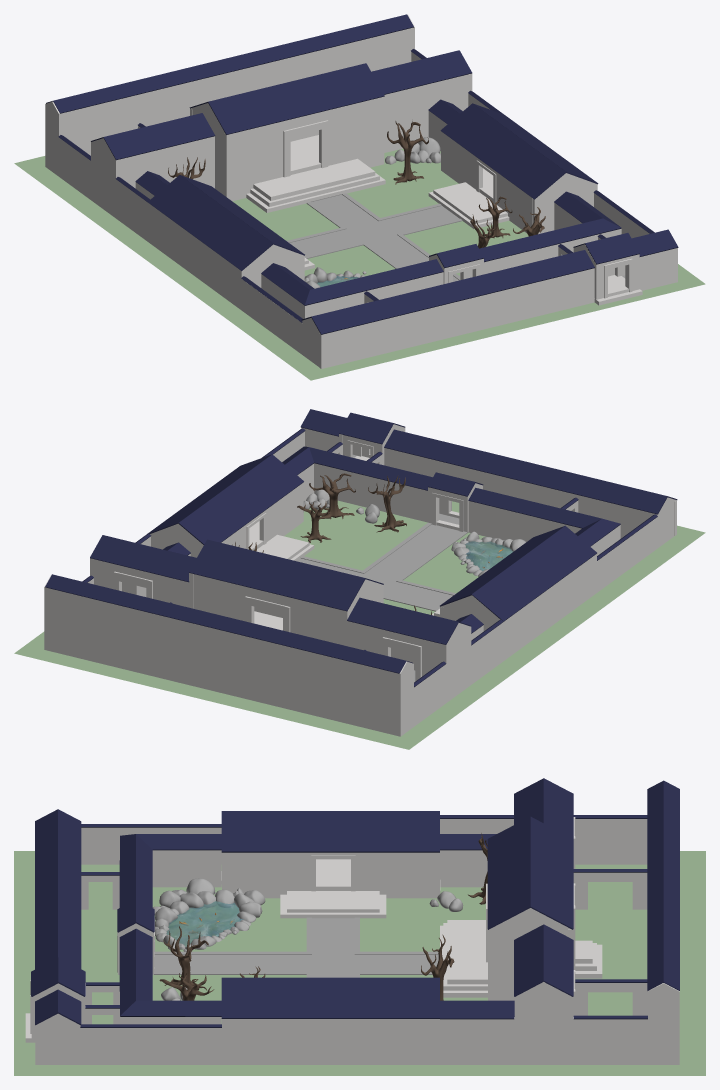
The model's file is environment_whole2.fbx.
3 renders of one model, top to bottom at view 1: azimuth 30°, elevation 25°; view 2: azimuth 150°, elevation 25°; view 3: azimuth 270°, elevation 25°, orthographic. The views are drawn at different scales.
Visible parts, largest first — view 1: walls_stairs, roof, ground, gardenwalkway, rockpile1, tree:tree; view 2: walls_stairs, roof, ground, gardenwalkway, pondrocks, pond1:pond_water1, tree3, tree5; view 3: walls_stairs, roof, ground, gardenwalkway, pondrocks, pond1:pond_water1, tree5, tree:tree, tree3.
Part boxes in pixels (x1,y1,x2,y2): walls_stairs: (45,15,677,368); roof: (46,14,678,334); ground: (14,148,705,380); gardenwalkway: (287,193,462,281); rockpile1: (385,137,440,164); tree:tree: (387,121,428,184); walls_stairs: (44,424,676,736); roof: (45,409,677,687); ground: (14,500,705,749); gardenwalkway: (297,522,468,611); pondrocks: (451,531,525,576); pond1:pond_water1: (465,541,513,571); tree3: (309,473,355,519); tree5: (368,475,406,532); walls_stairs: (25,817,679,1064); roof: (31,778,679,1027); ground: (14,851,705,1075); gardenwalkway: (154,917,438,977); pondrocks: (152,878,265,951); pond1:pond_water1: (166,901,243,946); tree5: (163,926,208,990); tree:tree: (421,934,454,1000); tree3: (159,973,214,1000).
Bounding box in the file's own units: 19.97 × 4.56 × 25.99.
